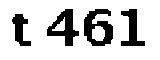1: (120, 5, 147, 51)
4: (45, 8, 80, 52)
6: (82, 6, 115, 52)
t: (10, 11, 36, 51)
